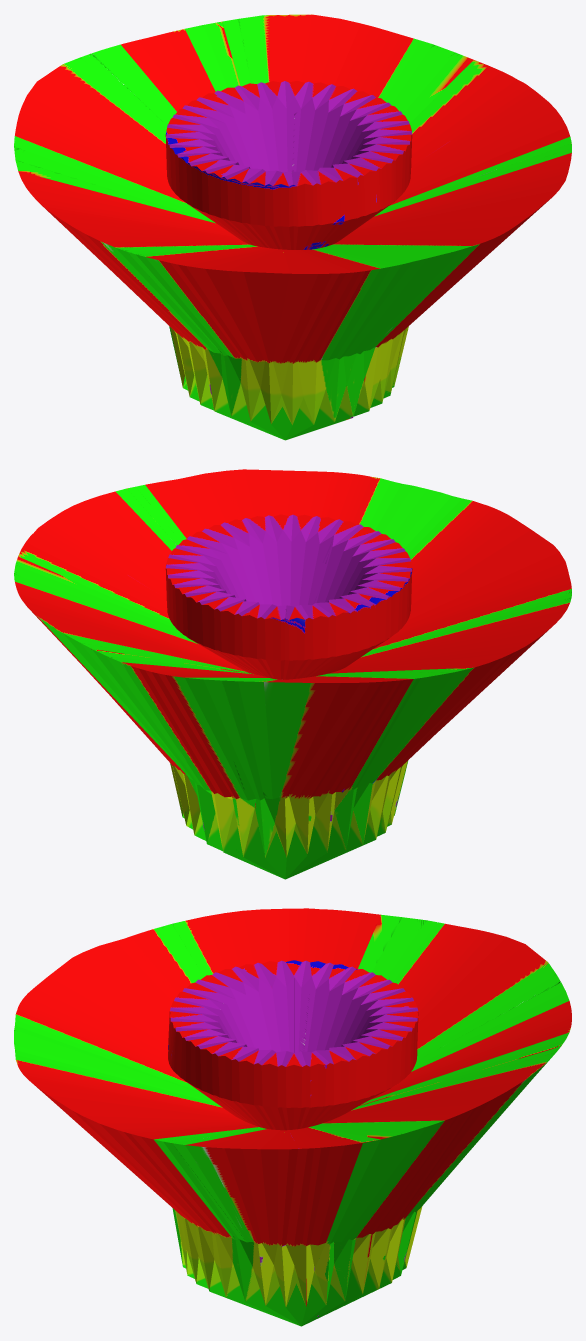
The model's file is flower2.fbx.
3 views of the same model, one above another, from view 1: azimuth 30°, elevation 25°; view 2: azimuth 150°, elevation 25°; view 3: azimuth 270°, elevation 25° (orthographic).
Parts seen in each view (by area): view 1: Cylinder; view 2: Cylinder; view 3: Cylinder.
Part boxes in pixels (x1,y1,x2,y2): Cylinder: (14,14,571,440); Cylinder: (14,469,571,879); Cylinder: (14,908,571,1326).
Bounding box in the file's own units: 5.11 × 3.11 × 5.01.
